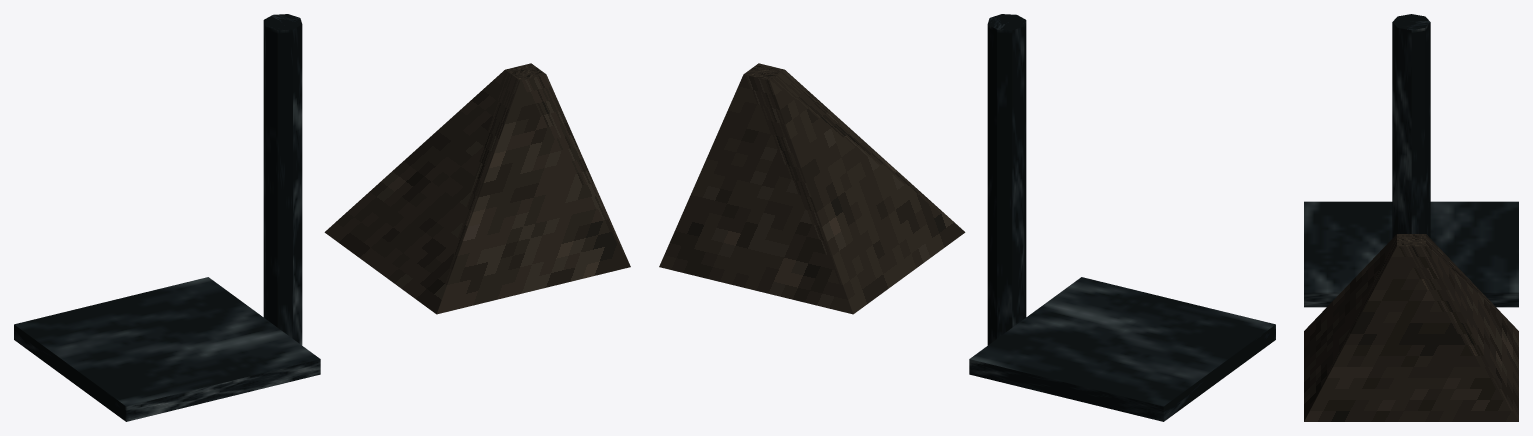
The model's file is terra e agua.fbx.
3 views of the same model, side by side, from view 1: azimuth 30°, elevation 25°; view 2: azimuth 150°, elevation 25°; view 3: azimuth 270°, elevation 25° (orthographic). The views are drawn at different scales.
Parts seen in each view (by area): view 1: terra, aguap, agua; view 2: terra, aguap, agua; view 3: terra, aguap, agua.
Part boxes in pixels (bbox=[...]): terra: bbox=[324, 63, 630, 314]; aguap: bbox=[14, 277, 320, 421]; agua: bbox=[263, 14, 302, 345]; terra: bbox=[659, 63, 965, 314]; aguap: bbox=[969, 277, 1275, 421]; agua: bbox=[987, 14, 1026, 345]; terra: bbox=[1304, 234, 1518, 421]; aguap: bbox=[1304, 201, 1518, 307]; agua: bbox=[1392, 14, 1430, 238].
Bounding box in the file's own units: 519 × 341 × 200.
